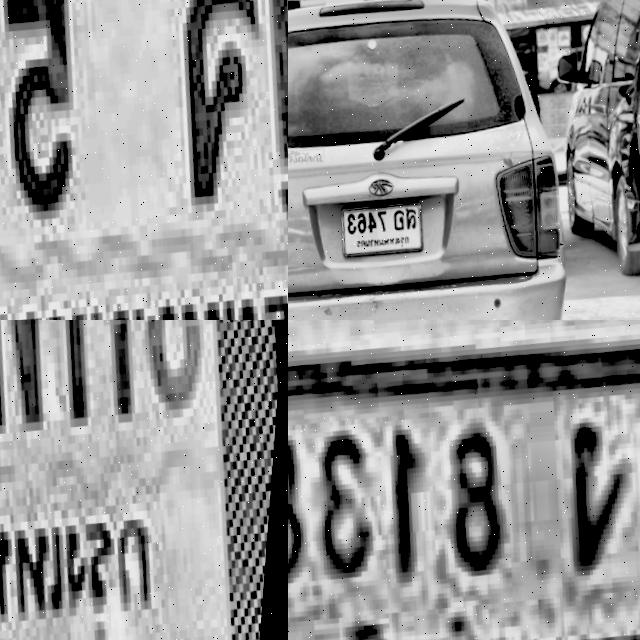license-plate: (288, 320, 640, 640), (0, 0, 288, 320), (0, 320, 288, 640), (343, 193, 432, 258)
